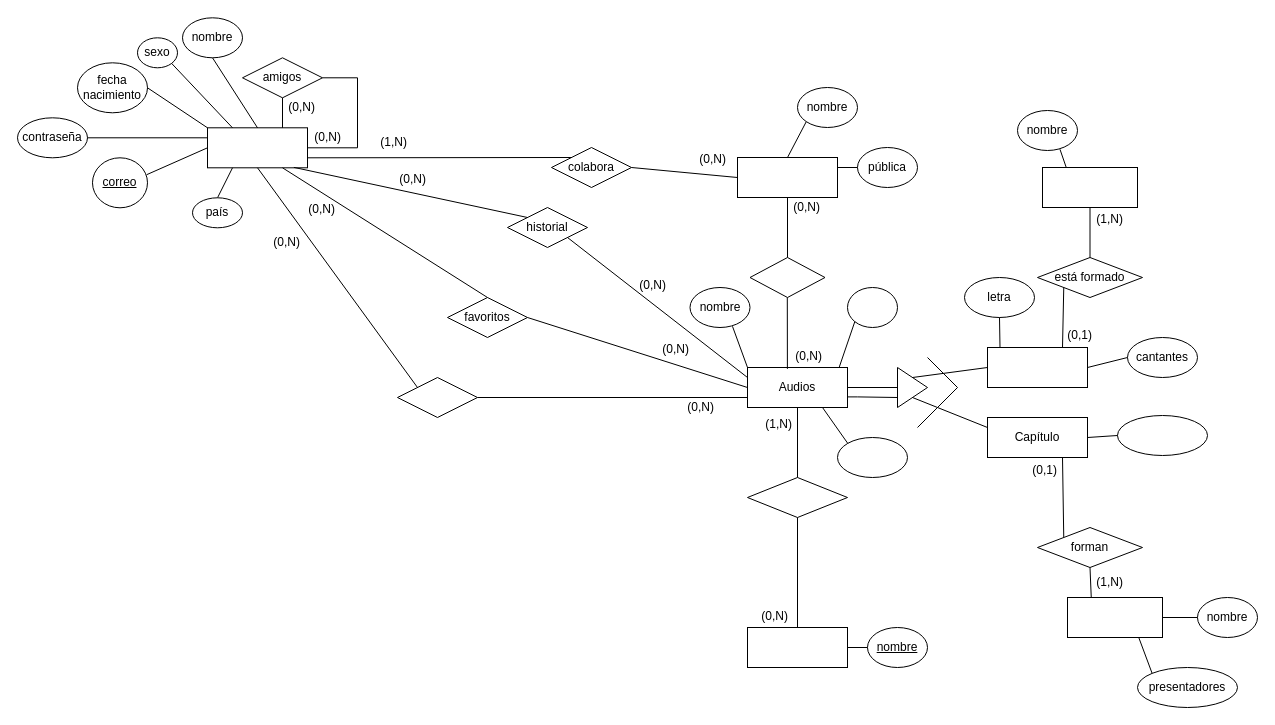
Some shapes in this 1275 by 725 pixel diagram are drawn without their labels. The shapes that lost their labels are listed below. From the top down, each one's centre as x and y in pixels, then its label:
At pixel 257 147: "Usuarios".
At pixel 787 177: "Playlists".
At pixel 1090 187: "Álbum".
At pixel 787 277: "contiene".
At pixel 872 307: "audio".
At pixel 1037 367: "Canciones".
At pixel 437 397: "cola reproducción".
At pixel 1162 435: "descripción".
At pixel 872 457: "puntuación".
At pixel 797 497: "pertenecen".
At pixel 1114 617: "Podcast".
At pixel 797 647: "Géneros".
